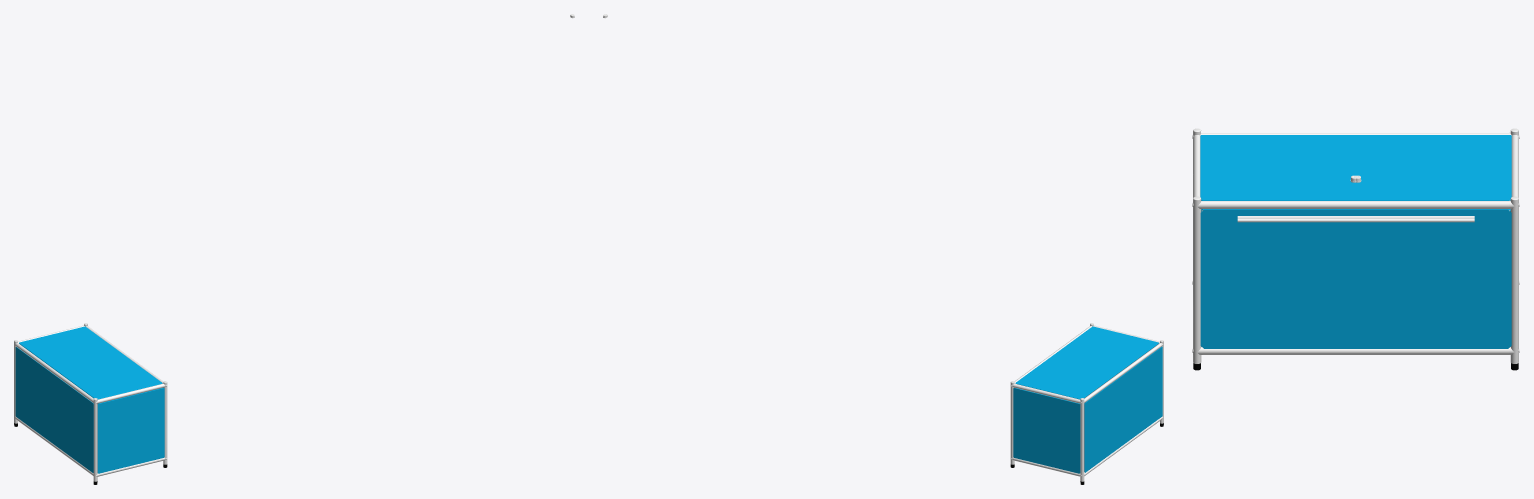
The model's file is 80x40x40-1-4-blue_optimized_optimized.glb.
3 renders of one model, left to right at view 1: azimuth 30°, elevation 25°; view 2: azimuth 150°, elevation 25°; view 3: azimuth 270°, elevation 25°, orthographic. The views are drawn at different scales.
Visible parts, largest first — view 1: 直角鐵板-80x40-5 - 零件, 內塞-1 - 零件; view 2: 直角鐵板-80x40-5 - 零件, 內塞-1 - 零件; view 3: 直角鐵板-80x40-5 - 零件, 內塞-1 - 零件.
Part boxes in pixels (left/top/right/bottom): 直角鐵板-80x40-5 - 零件: left=15, top=326, right=164, bottom=473; 內塞-1 - 零件: left=14, top=14, right=574, bottom=481; 直角鐵板-80x40-5 - 零件: left=1013, top=326, right=1162, bottom=473; 內塞-1 - 零件: left=603, top=14, right=1163, bottom=481; 直角鐵板-80x40-5 - 零件: left=1200, top=135, right=1511, bottom=348; 內塞-1 - 零件: left=1192, top=128, right=1519, bottom=363.
Size of the model in its own units: 2.83 by 1.64 by 0.7731.
